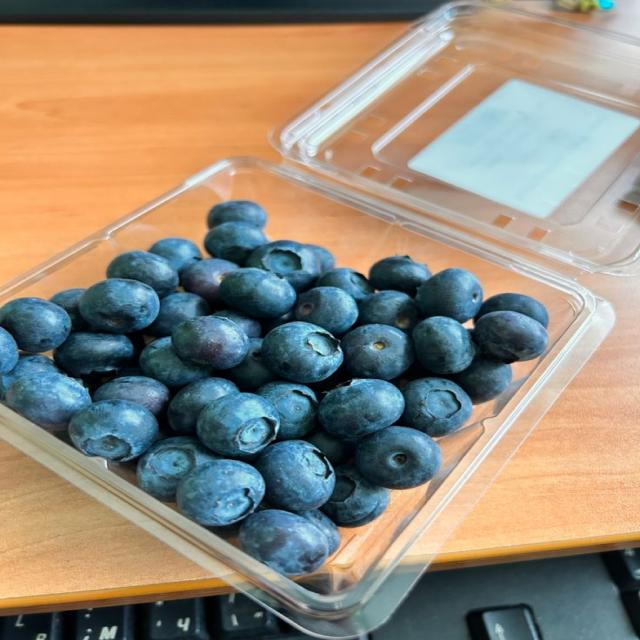blueberry: (239, 509, 328, 576), (176, 460, 264, 526), (254, 440, 335, 510), (69, 400, 158, 461), (355, 427, 442, 489), (137, 436, 218, 501), (197, 394, 279, 457), (318, 379, 404, 437), (5, 372, 91, 430), (262, 322, 343, 382), (79, 279, 159, 333), (322, 465, 390, 527), (402, 378, 472, 437), (172, 316, 249, 369), (341, 325, 414, 380), (168, 378, 238, 435), (474, 311, 548, 363), (0, 298, 71, 352), (220, 268, 296, 318), (413, 316, 475, 375), (247, 241, 320, 291), (54, 333, 135, 377), (416, 268, 482, 322), (257, 381, 318, 439), (140, 337, 210, 387), (107, 251, 179, 298), (294, 287, 358, 336), (94, 376, 169, 416), (145, 293, 210, 336), (453, 356, 512, 403), (226, 338, 278, 391), (180, 259, 238, 305), (204, 222, 266, 265), (0, 354, 59, 399), (359, 291, 420, 333), (476, 293, 548, 328), (369, 256, 431, 296), (296, 509, 341, 555), (306, 428, 355, 467), (316, 268, 374, 300), (149, 238, 201, 272), (207, 201, 266, 228), (50, 289, 86, 330), (214, 310, 262, 337), (305, 244, 335, 274), (0, 328, 19, 375), (263, 309, 295, 335), (115, 366, 143, 377)
